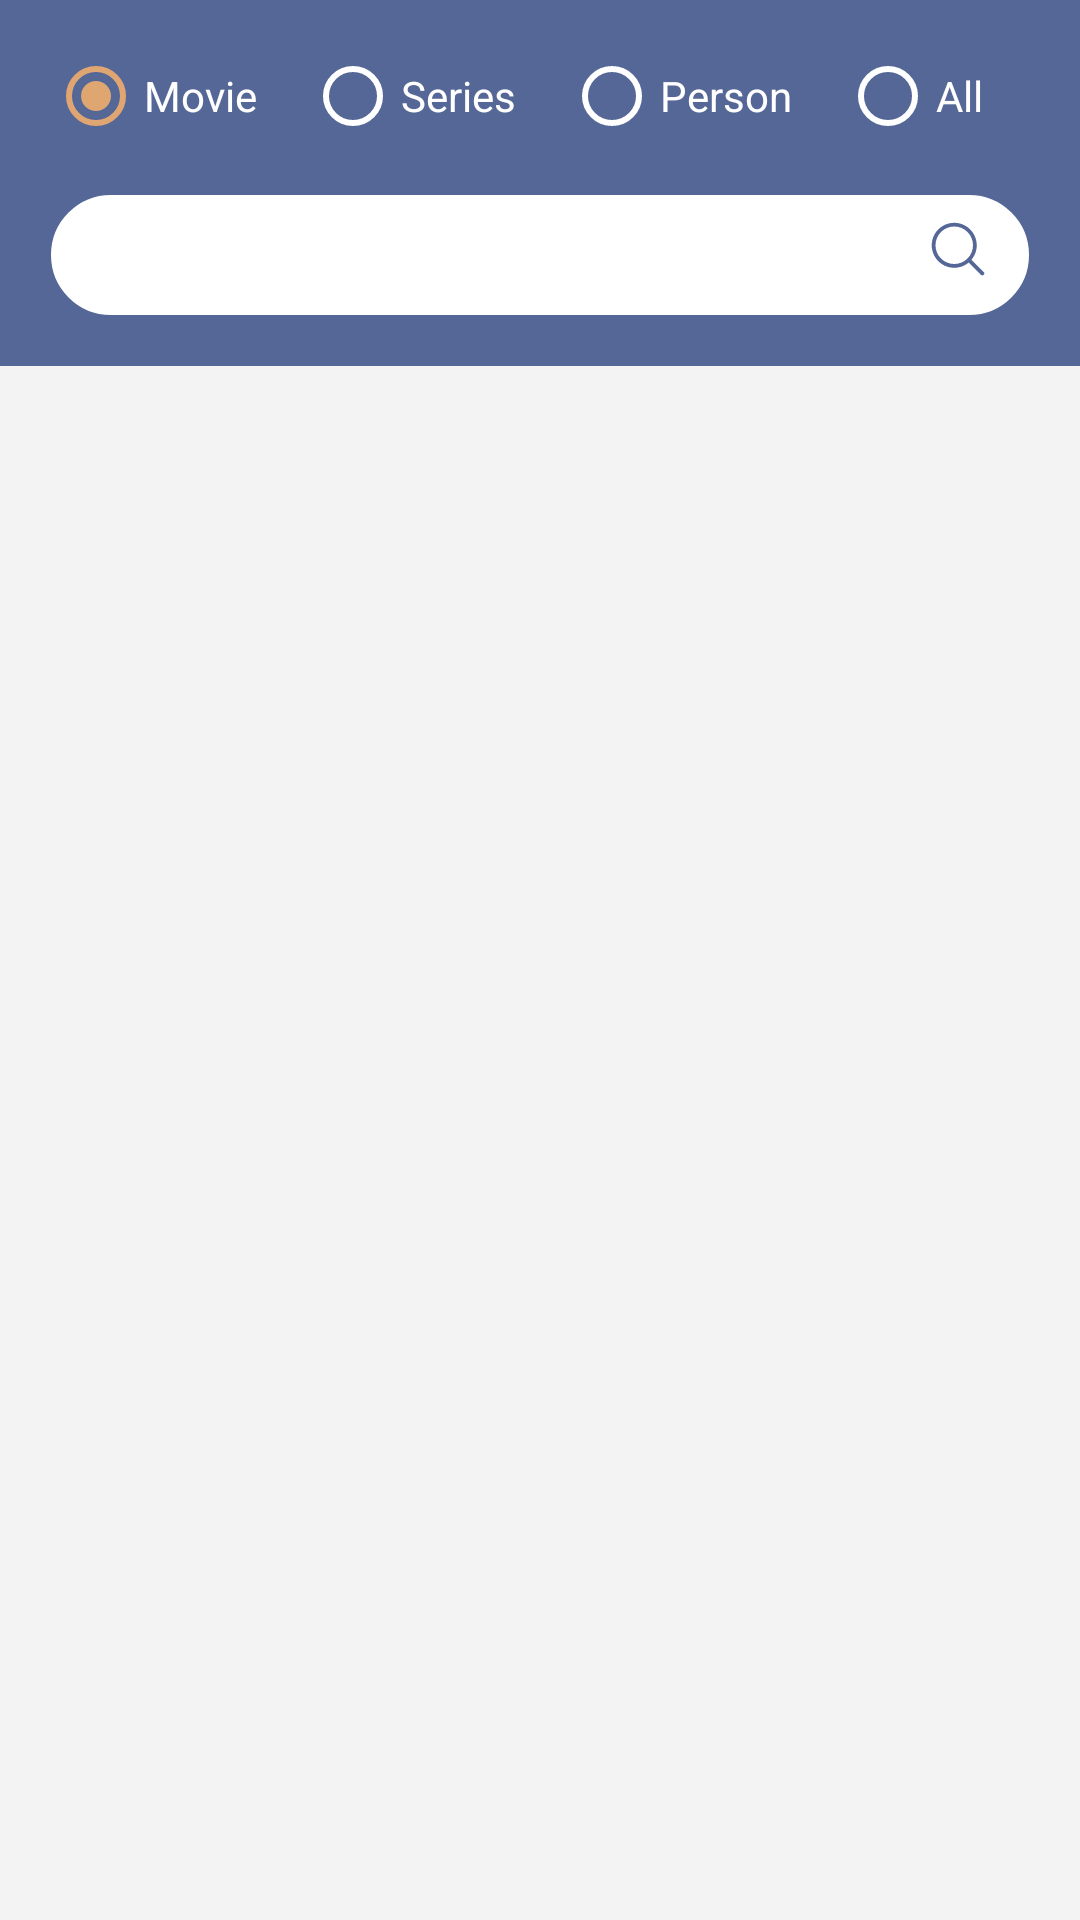

Icon click points for this 1080px x 1920px phone screenshot, format [x,y]:
search: [958,249]
